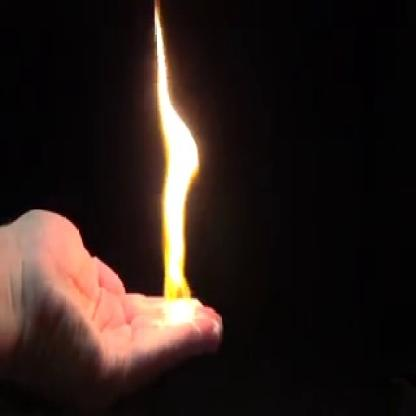fire: (142, 0, 203, 331)
